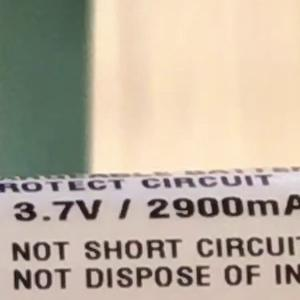3.7V: (4, 190, 107, 231)
